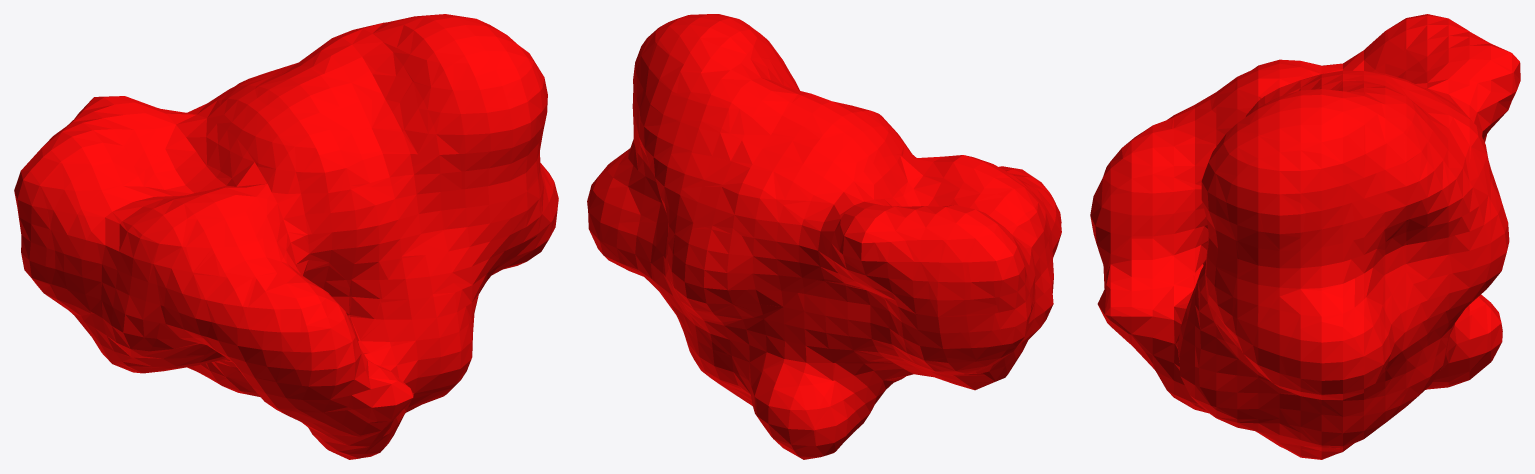
The model's file is msrB_coarse.dae.
3 views of the same model, side by side, from view 1: azimuth 30°, elevation 25°; view 2: azimuth 150°, elevation 25°; view 3: azimuth 270°, elevation 25° (orthographic). The views are drawn at different scales.
Parts seen in each view (by area): view 1: msrB; view 2: msrB; view 3: msrB.
Boxes of the visible parts, x1,y1,x2,y2 form: msrB: [14, 14, 558, 459]; msrB: [587, 14, 1061, 459]; msrB: [1090, 14, 1520, 459].
Size of the model in its own units: 53.61 by 41.12 by 39.34.
